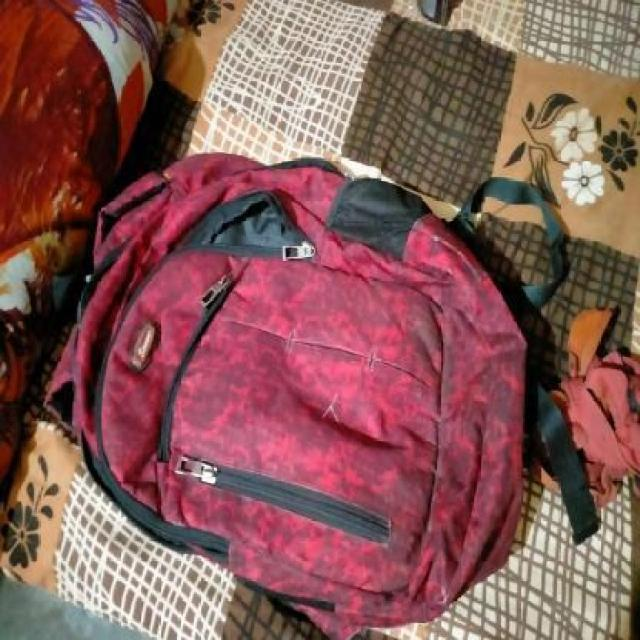backpack: (41, 143, 532, 640)
